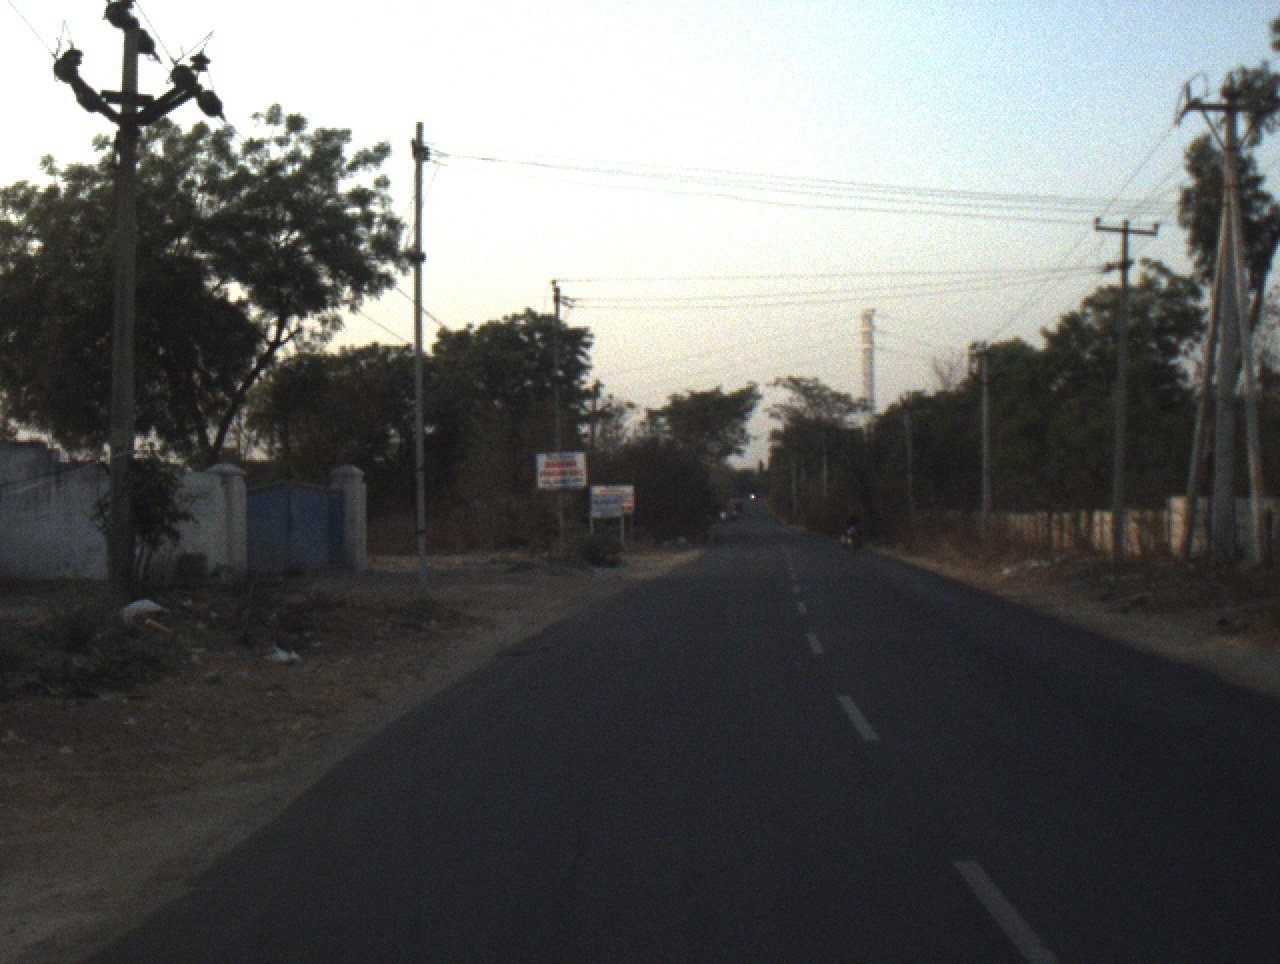motorcycle: (842, 529, 861, 550)
rider: (842, 511, 859, 542)
vehicle fallback: (729, 507, 739, 521), (748, 489, 756, 502), (718, 509, 726, 523)
